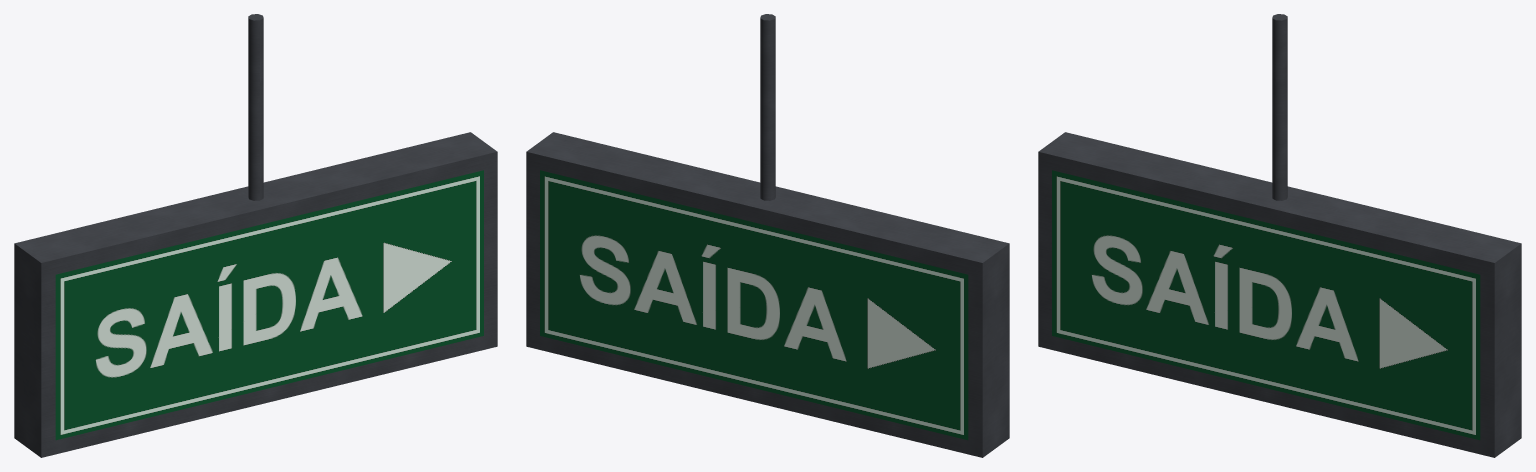
File: sign_exit.obj
3 renders of one model, left to right at view 1: azimuth 30°, elevation 25°; view 2: azimuth 150°, elevation 25°; view 3: azimuth 330°, elevation 25°, orthographic.
Visible parts, largest first — view 1: sign_exit; view 2: sign_exit; view 3: sign_exit.
Part boxes in pixels (left/top/right/bottom): sign_exit: left=14, top=14, right=497, bottom=457; sign_exit: left=526, top=14, right=1009, bottom=457; sign_exit: left=1038, top=14, right=1521, bottom=457.
Size of the model in its own units: 0.98 by 0.77 by 0.104.
